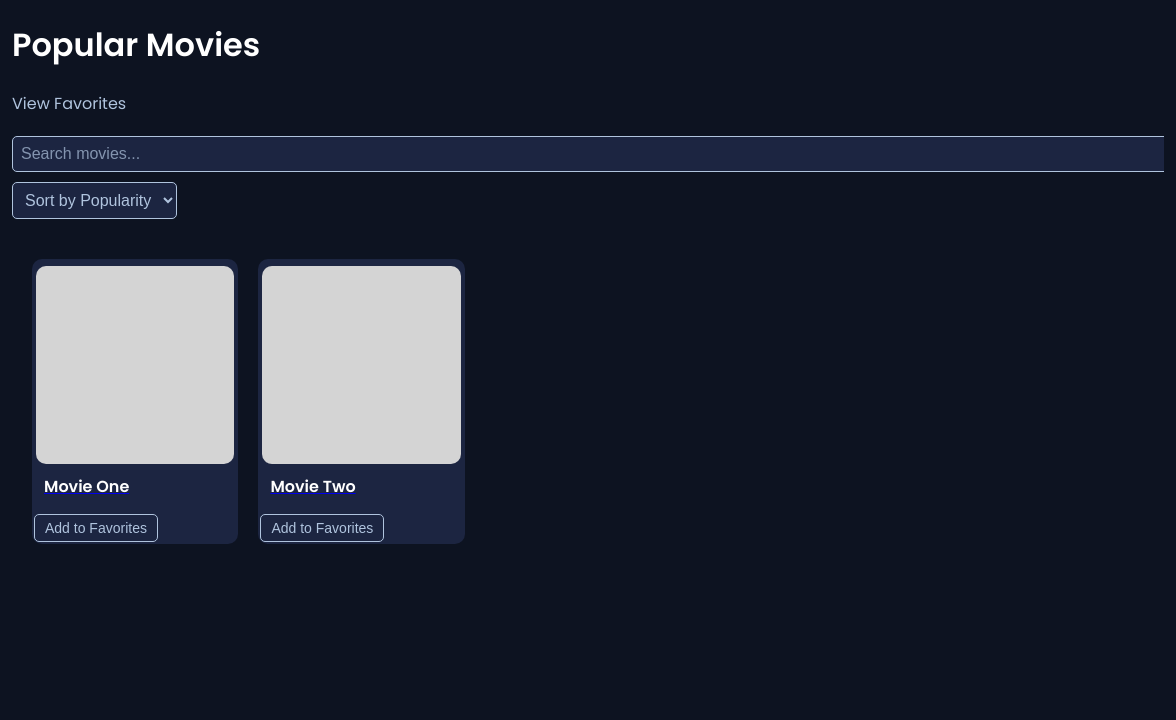
Scenario: handles adding to favorites
Step 1. Click the button "Add to Favorites" below "Movie One" → [96, 528], box [34,514,158,542]
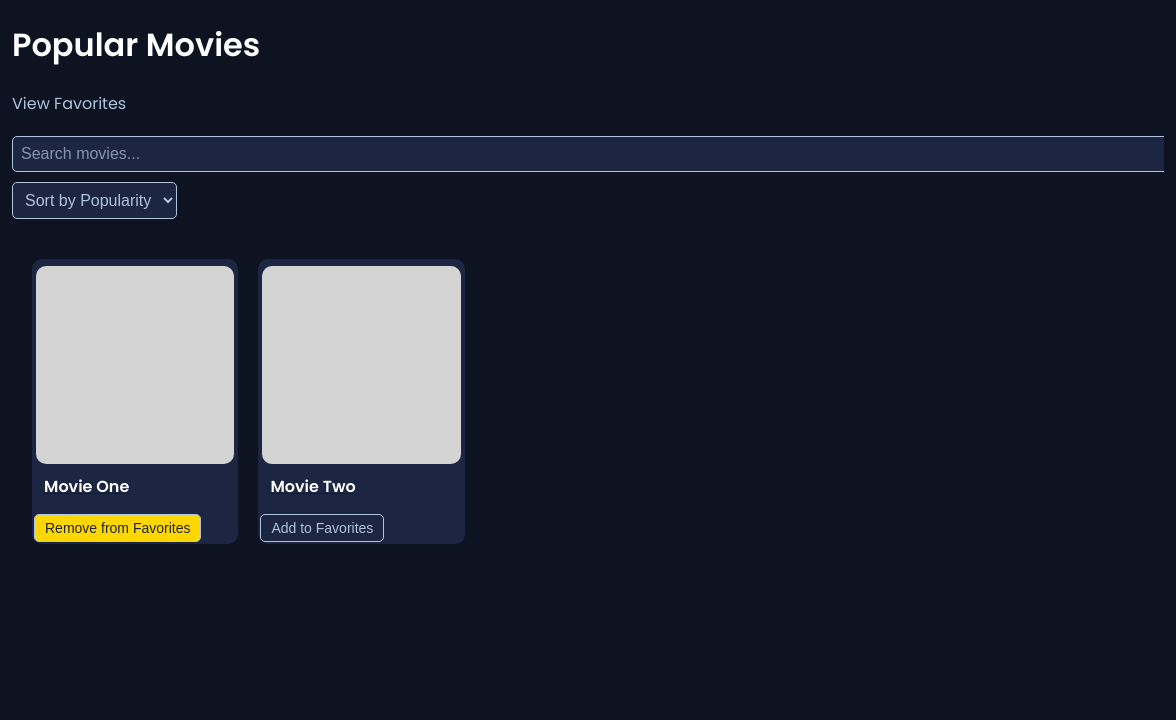
Result: the button "Remove from Favorites" is shown at [34,514,202,542]
